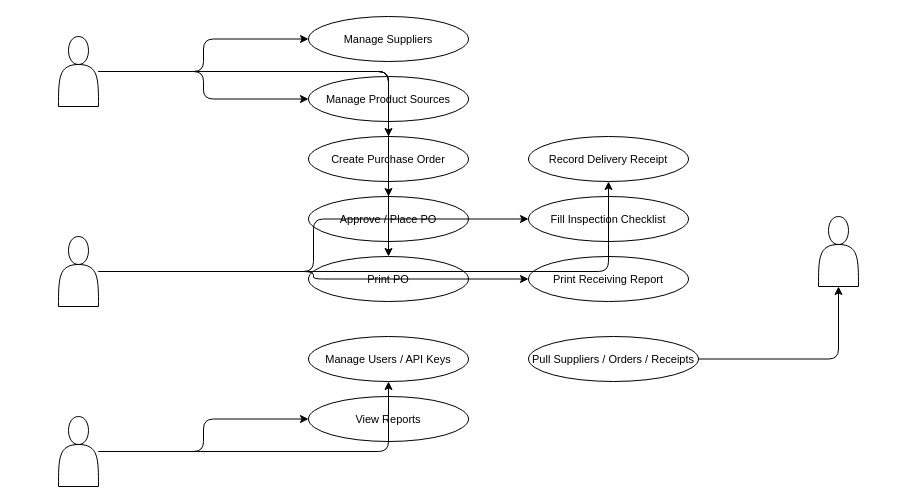
Image size: 911x503. Some labels were removed from this diagram. The centre of each missing label's shape, as x and y in pixels:
ADMIN: the point at 78,451
INVENTORY MODULE: the point at 838,251
PROCUREMENT STAFF: the point at 78,71
WAREHOUSE STAFF: the point at 78,271
